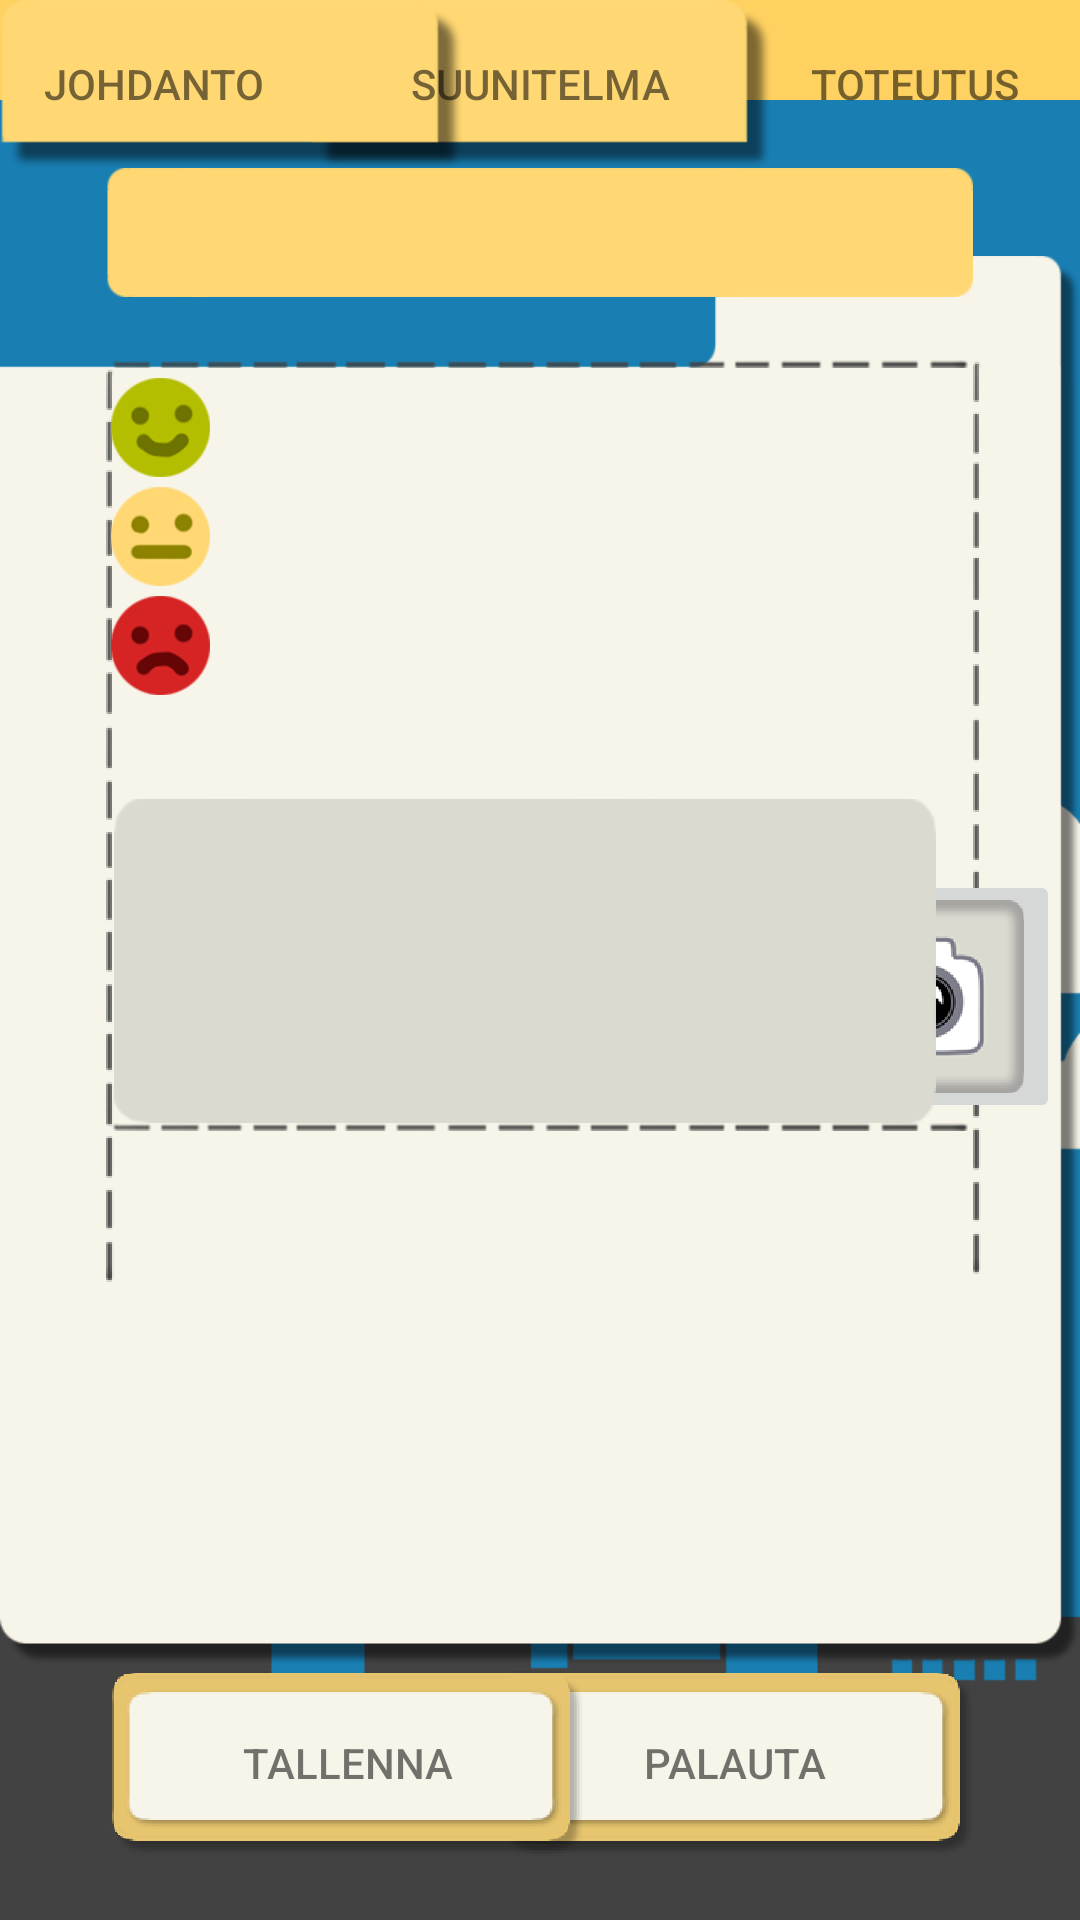

Named icons in this screenshot (1080 × 1920) and their centers, point (x, y):
face: point (165, 422), point (160, 536), point (160, 645)
